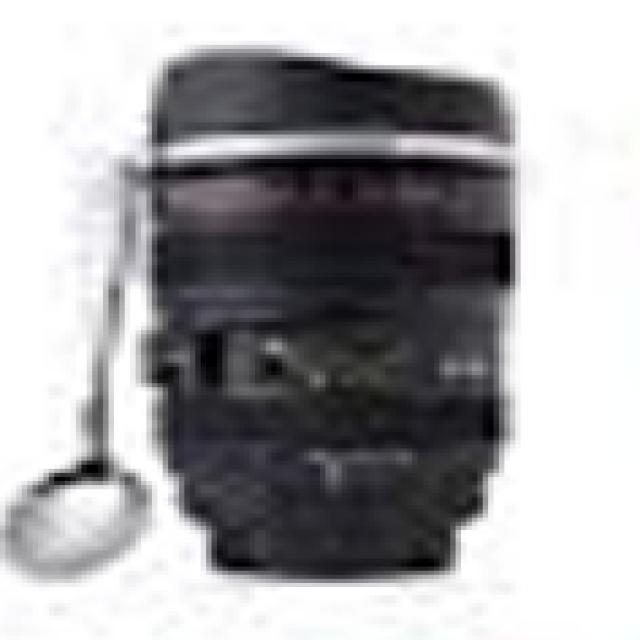taza: (110, 36, 524, 588)
